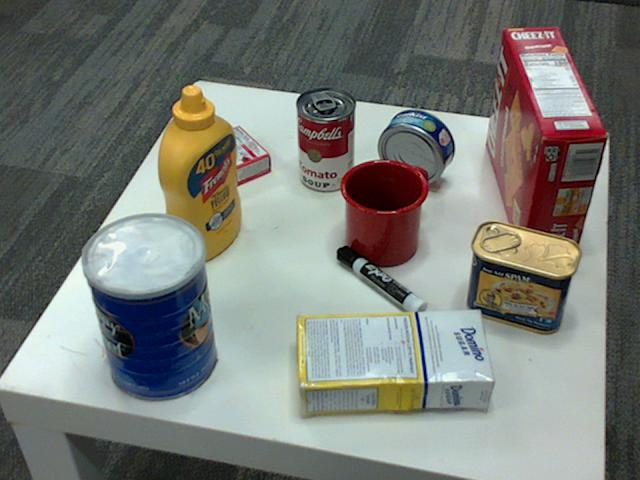cracker_box: (485, 24, 607, 258)
gelatin_box: (176, 122, 271, 193)
large_marker: (337, 247, 427, 322)
master_chef_can: (78, 214, 215, 403)
mug: (337, 157, 427, 264)
mustard_bottle: (155, 85, 241, 264)
potted_meat_can: (464, 220, 580, 333)
sugar_box: (291, 308, 491, 413)
tomato_soup_can: (295, 87, 355, 192)
tuna_fish_can: (376, 108, 453, 184)
